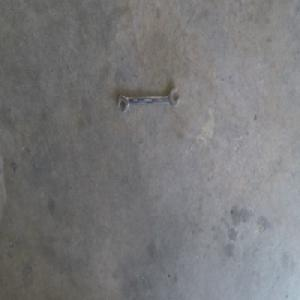Wrench: (119, 87, 179, 111)
